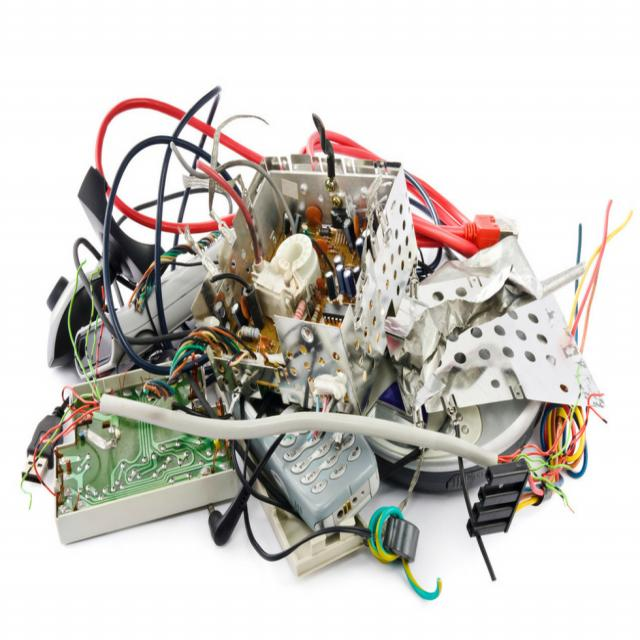heap: (13, 51, 597, 592)
